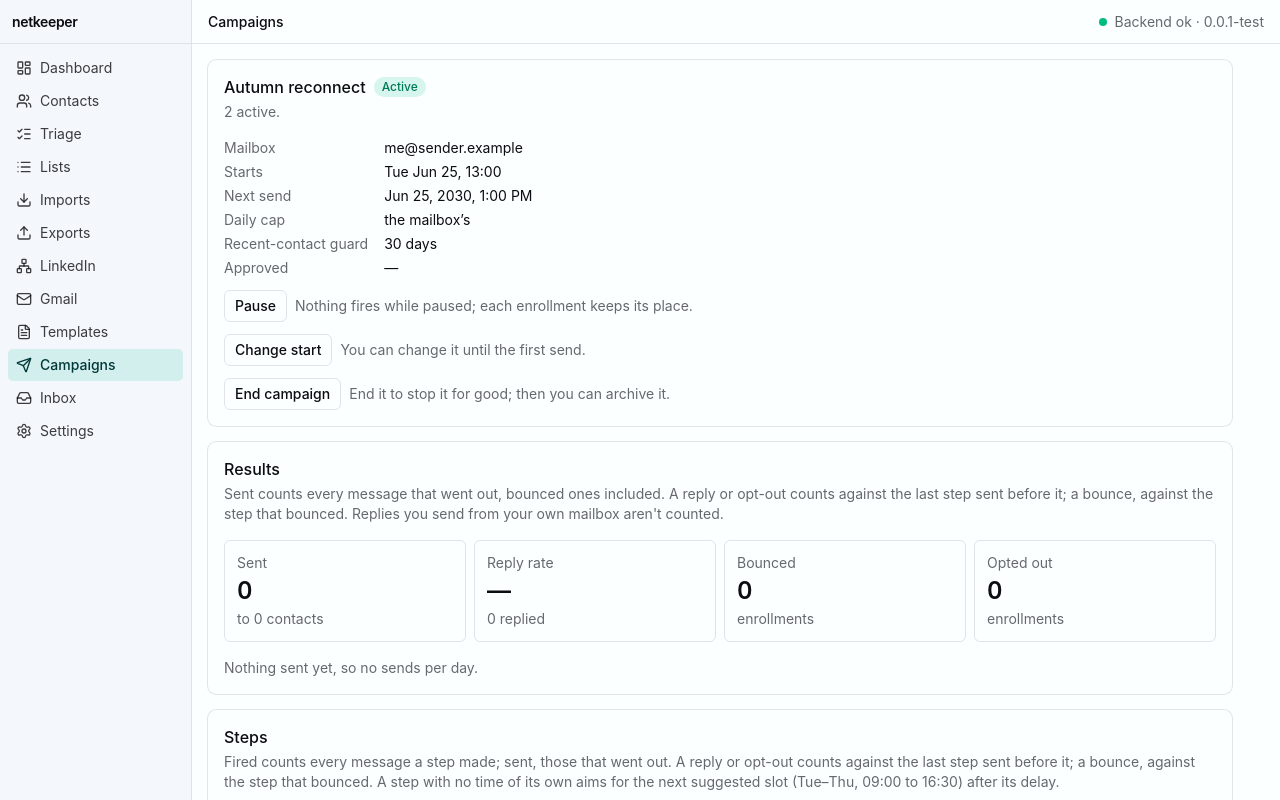
Test case: the campaign page › shows the start and changes it until the first send
Expected: the navigation bar named "Primary" is shown, [0,44,191,455]
Click the button "Change start". click: (278, 350)
box: [224,334,332,366]
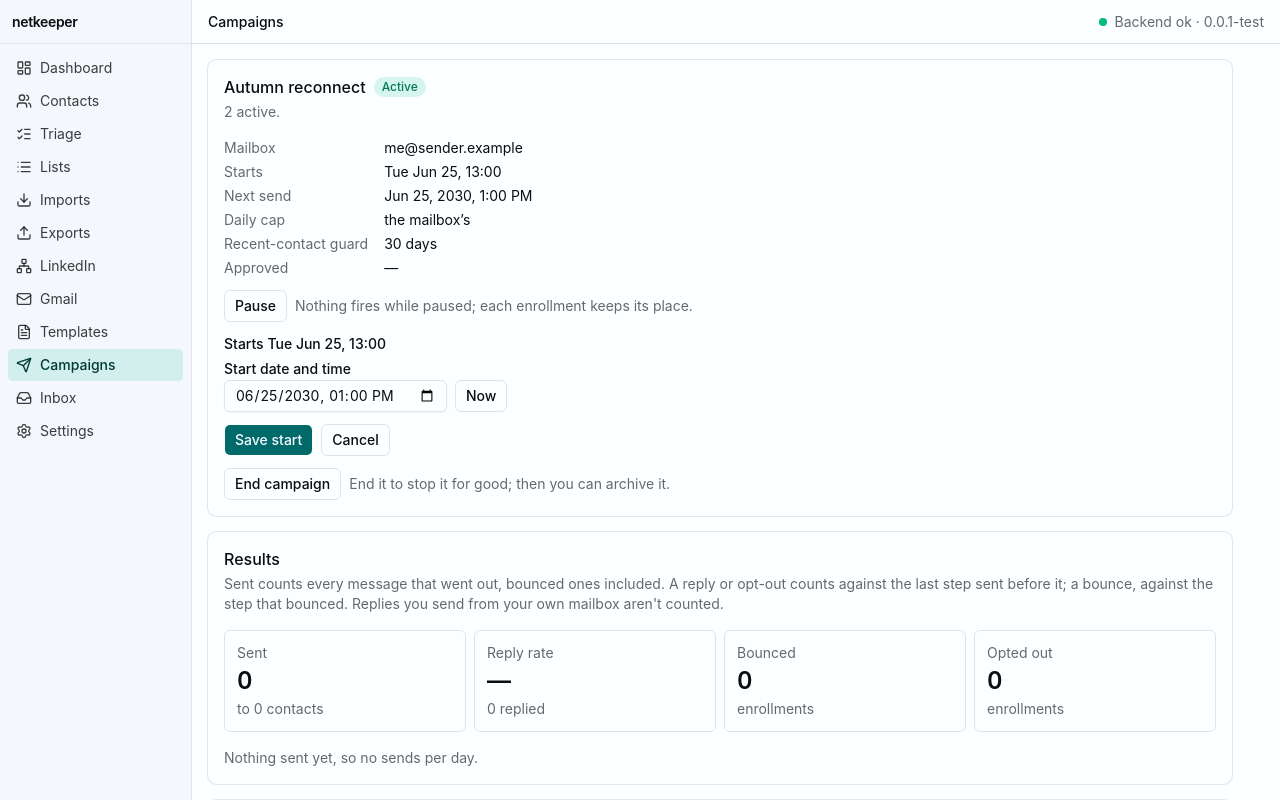
Now the field labelled "Start date and time" holds "2030-06-25T13:00", box [224,380,447,412]
Click the button "Now". click: (481, 396)
box: [455,380,507,412]
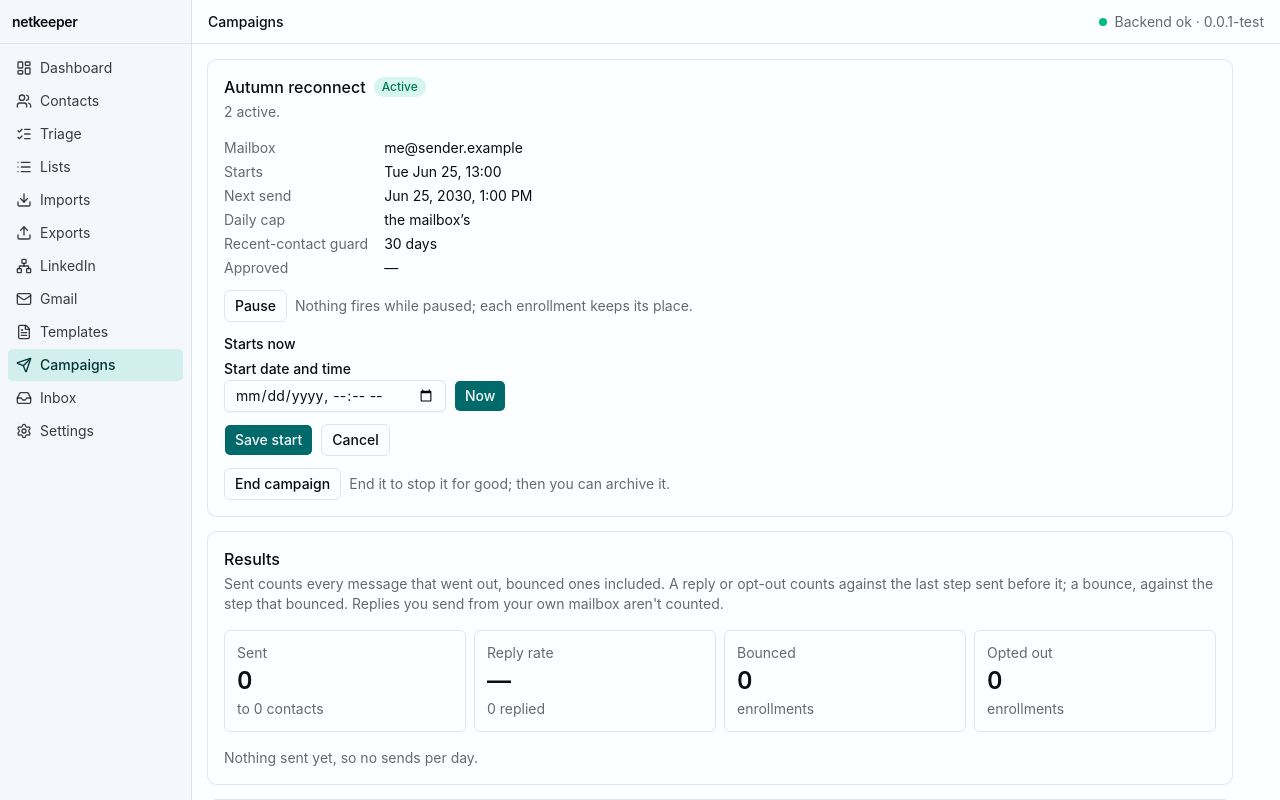
Click the button "Save start". click: (269, 440)
box: [224,424,313,456]
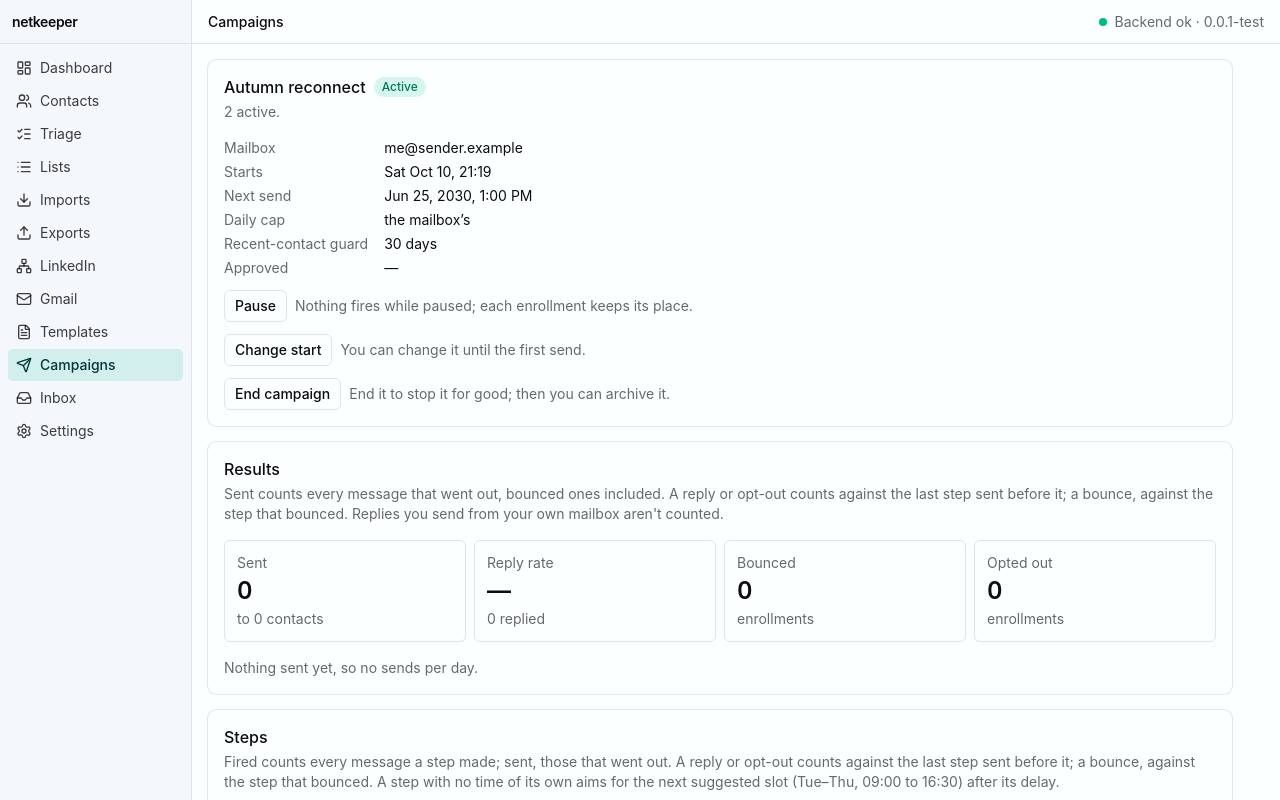
Now the button "Change start" is shown, box [224,334,332,366]
